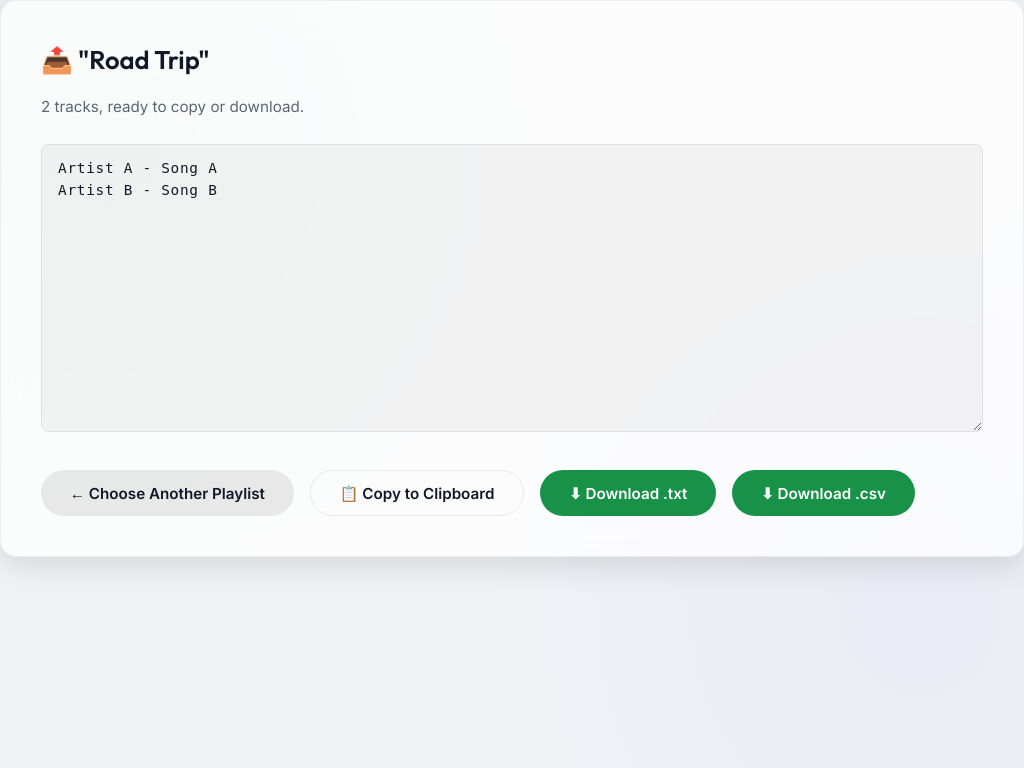
Test: ExportView › copies the tracklist to the clipboard
Click the button "📋 Copy to Clipboard": (417, 493) [310,470,524,516]
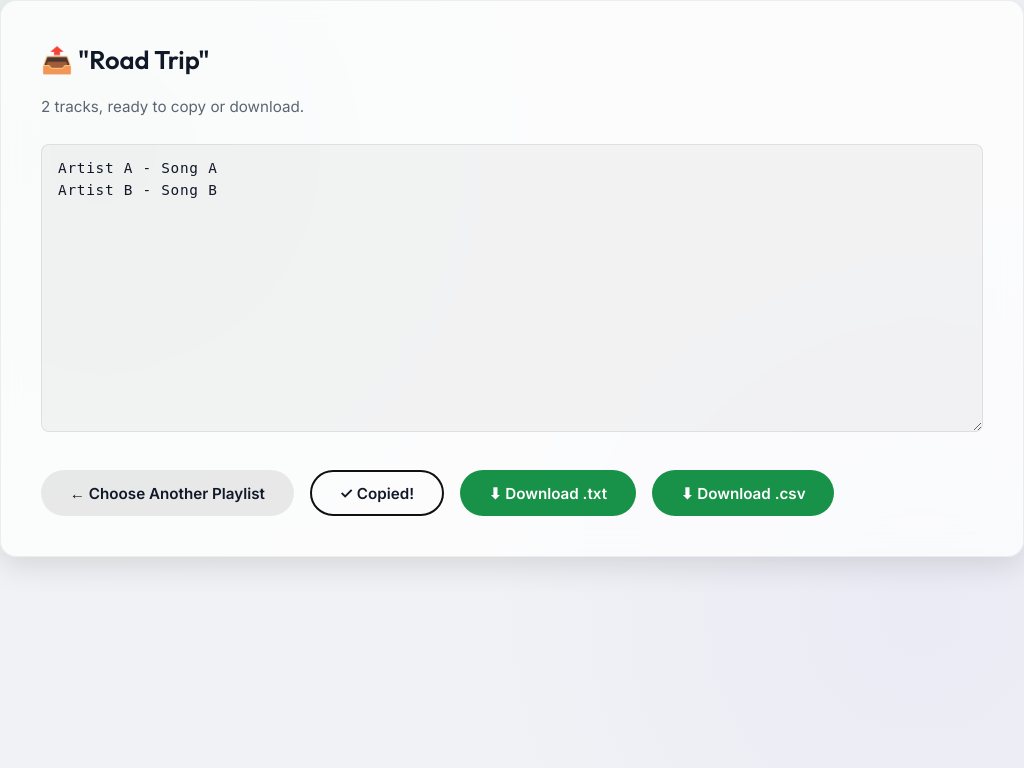
Check: the button "✓ Copied!" is shown, box [310,470,444,516]
